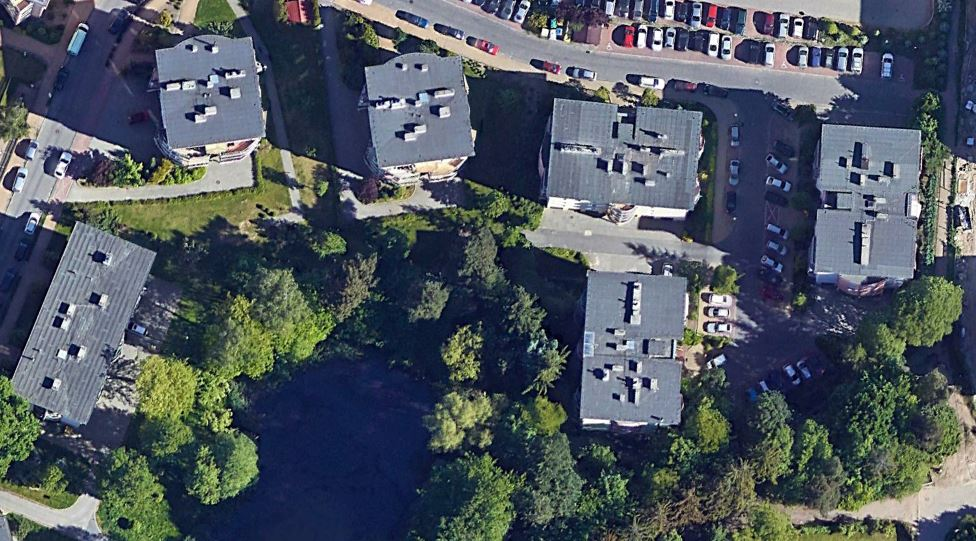block of flats: (1, 216, 168, 432), (530, 91, 710, 232), (799, 119, 929, 304), (571, 264, 695, 444), (137, 30, 272, 173), (355, 43, 481, 190)
